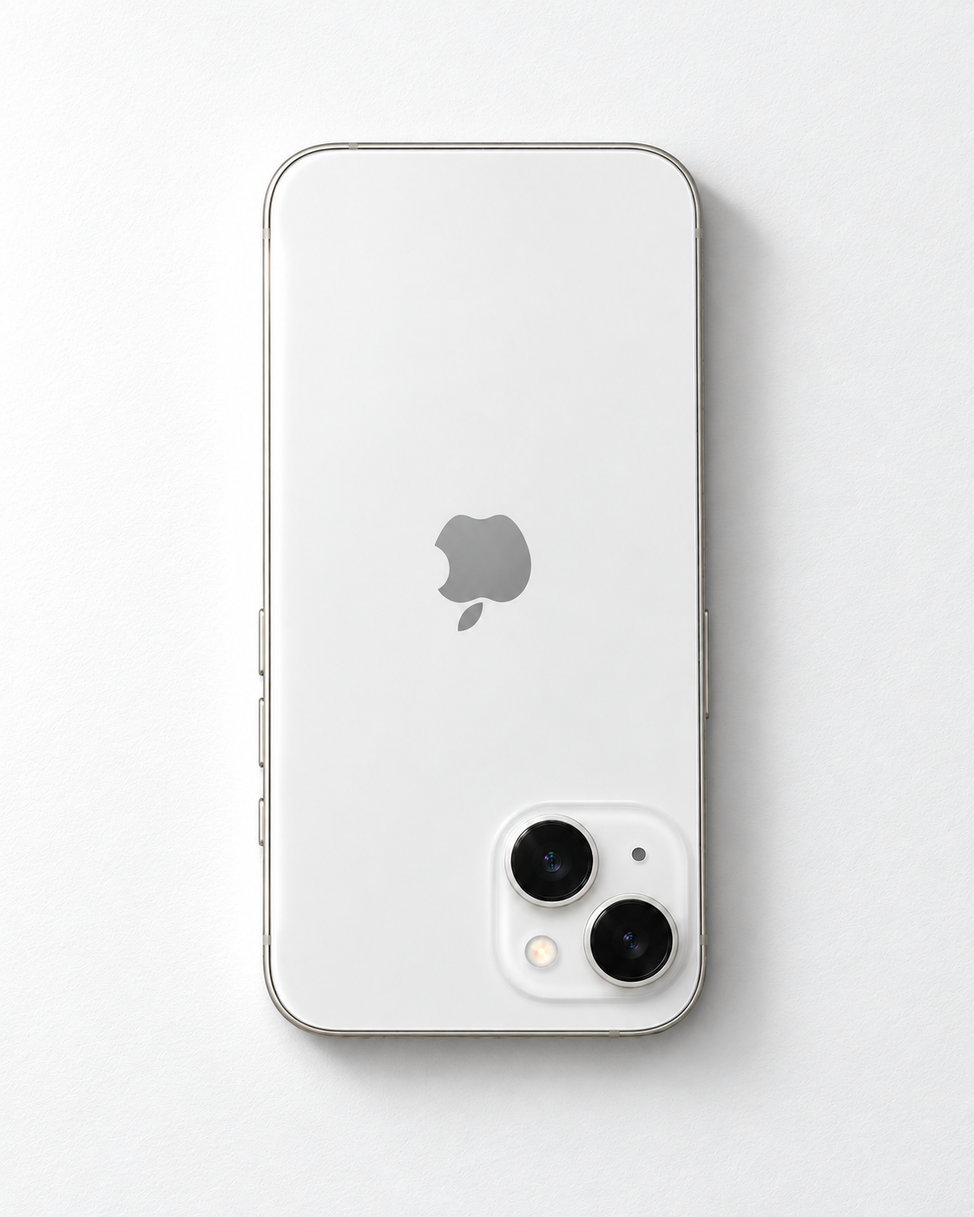iphone_14_white: (197, 122, 733, 1057), (502, 812, 688, 1002)
